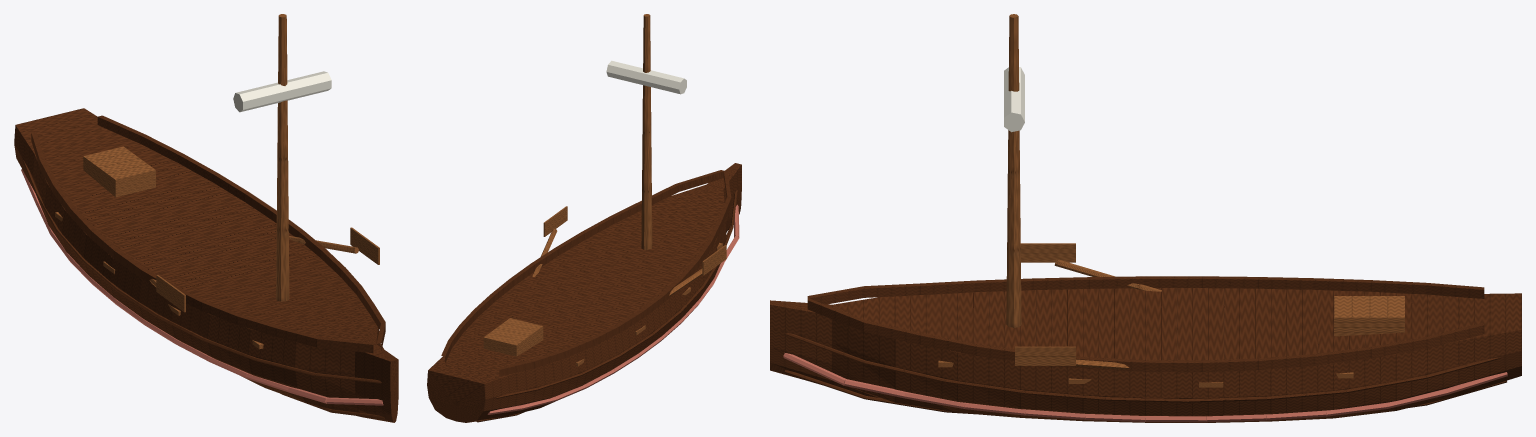
File: pirate-port-and-tall-ships-ships-longboat-d289e6be__30149.glb
The picture shows the model from 3 angles, left to right: view 1: azimuth 30°, elevation 25°; view 2: azimuth 150°, elevation 25°; view 3: azimuth 270°, elevation 25°; orthographic projection. The views are drawn at different scales.
Parts seen in each view (by area): view 1: ships-longboat; view 2: ships-longboat; view 3: ships-longboat.
Part boxes in pixels (box(x1,y1,x2,y2)): ships-longboat: box(14, 14, 398, 422); ships-longboat: box(427, 14, 741, 422); ships-longboat: box(770, 14, 1521, 422).
Size of the model in its own units: 2.42 by 4.18 by 7.4.
5 materials, 2 textured.
